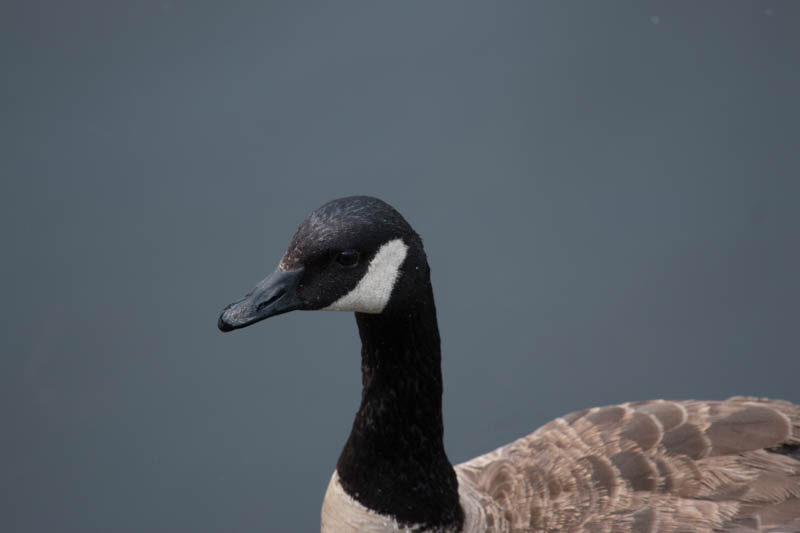goose-head: (216, 196, 430, 331)
